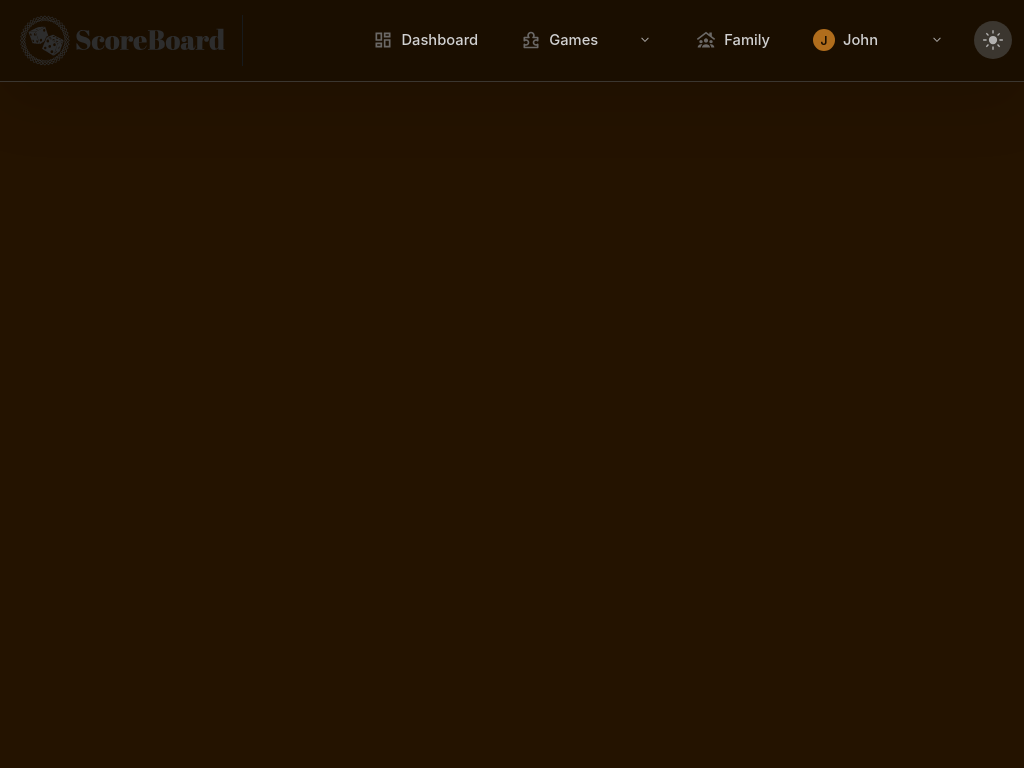
Test: MenuComponent › With Authentication › should show the logout message
The image size is (1024, 768).
Step 1. Click the button with class "header" showing "J John" → (879,40), box [799, 19, 959, 62]
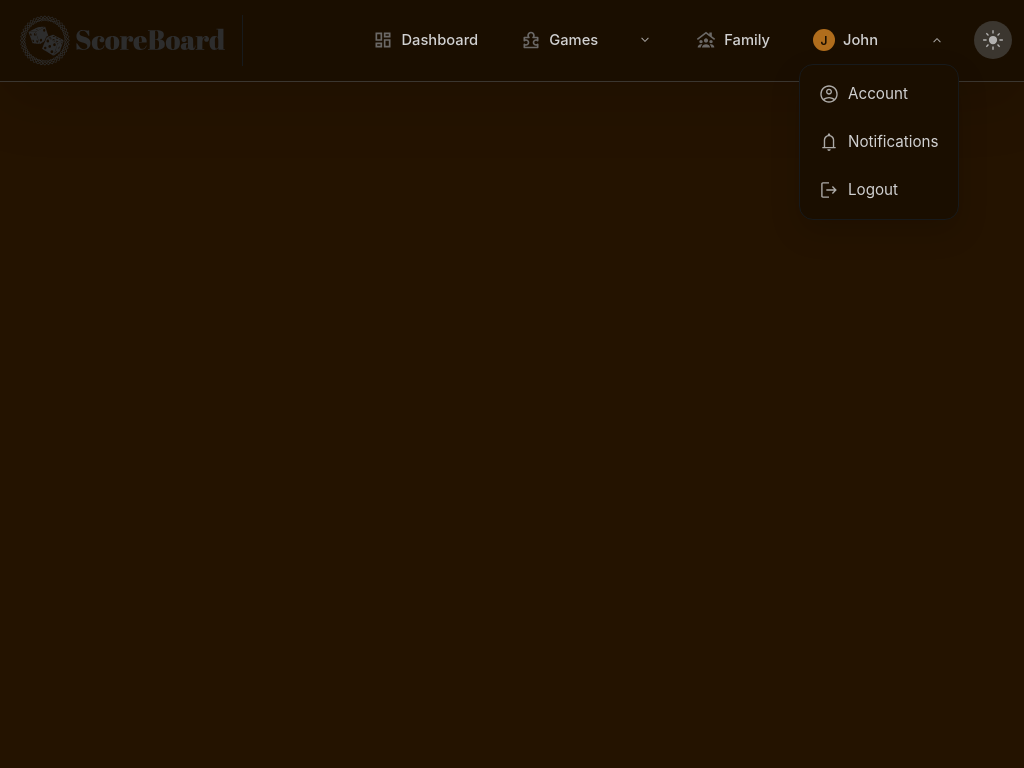
Step 2. Click the button with class "option" showing "Logout" → (879,190), box [806, 167, 952, 213]
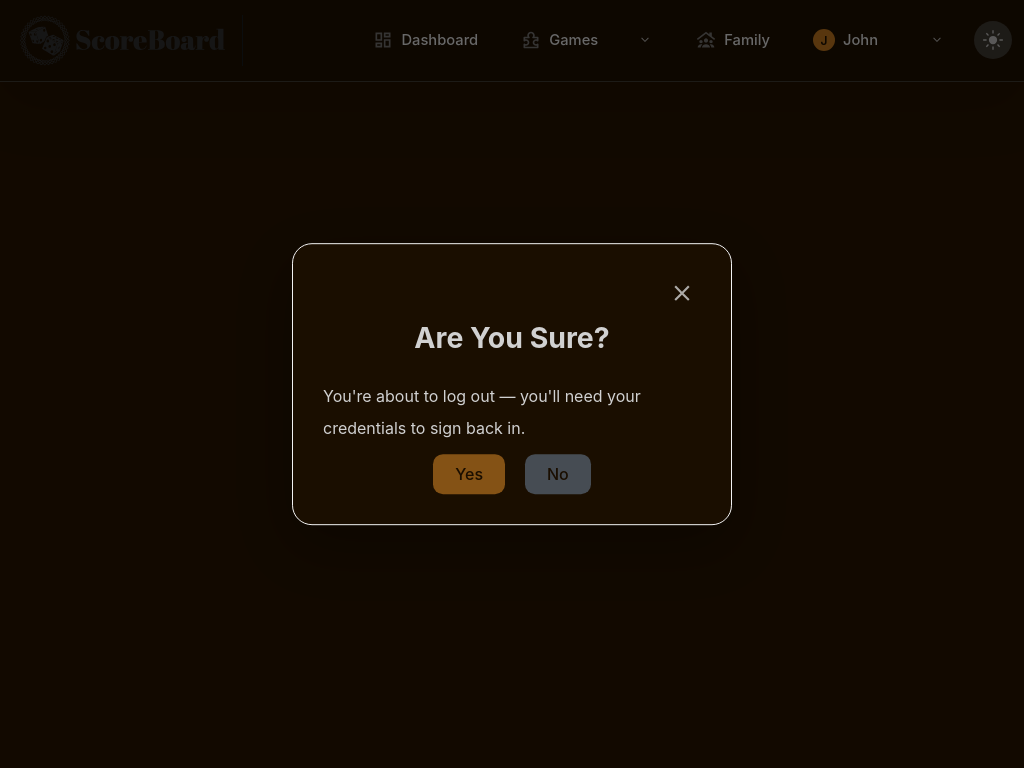
Expected: the heading "Are You Sure?" is shown, [414, 320, 610, 355]
Expected: the text "You're about to log out — you'll need your credentials to sign back in." is shown, [323, 386, 641, 438]
